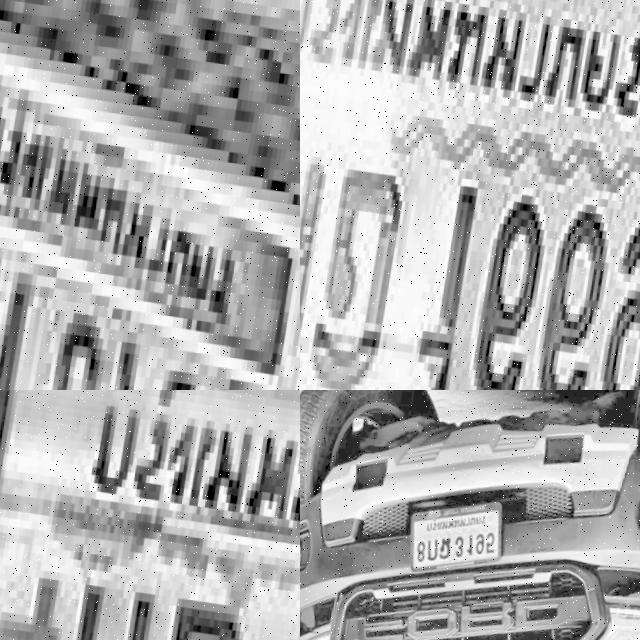license-plate: (300, 0, 640, 390), (0, 0, 300, 390), (0, 390, 300, 640), (402, 480, 516, 585)
